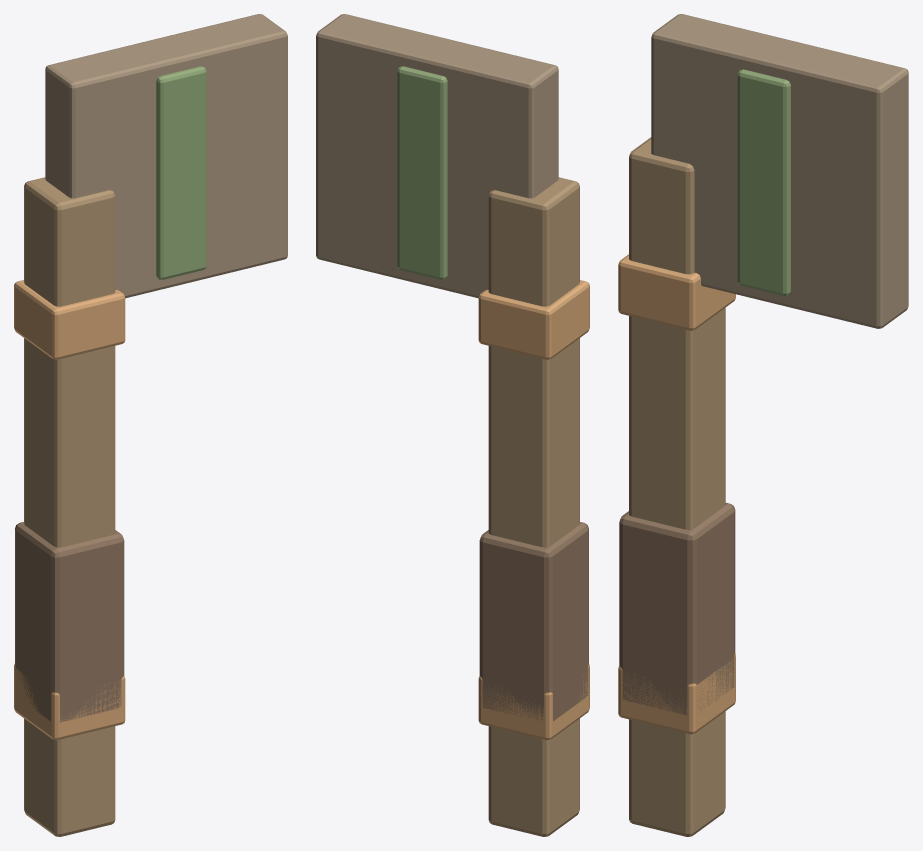
File: weapon_bogiron_axe.glb
3 renders of one model, left to right at view 1: azimuth 30°, elevation 25°; view 2: azimuth 150°, elevation 25°; view 3: azimuth 330°, elevation 25°, orthographic. The views are drawn at different scales.
Visible parts, largest first — view 1: Head, Haft, Grip_wrap, Head_moss, Band_top, Band_bot; view 2: Head, Haft, Grip_wrap, Head_moss, Band_top, Band_bot; view 3: Head, Haft, Grip_wrap, Head_moss, Band_top, Band_bot.
Boxes of the visible parts, <box> form: Head: <box>45,14,287,298</box>; Haft: <box>24,177,115,836</box>; Grip_wrap: <box>15,522,124,722</box>; Head_moss: <box>156,66,206,279</box>; Band_top: <box>14,280,125,359</box>; Band_bot: <box>14,664,125,740</box>; Head: <box>316,14,558,298</box>; Haft: <box>488,177,579,836</box>; Grip_wrap: <box>479,522,588,721</box>; Head_moss: <box>397,66,447,279</box>; Band_top: <box>478,280,589,359</box>; Band_bot: <box>478,664,589,740</box>; Head: <box>651,14,908,328</box>; Haft: <box>629,137,725,836</box>; Grip_wrap: <box>619,502,735,715</box>; Head_moss: <box>737,69,790,296</box>; Band_top: <box>618,254,735,330</box>; Band_bot: <box>618,653,735,734</box>.
Size of the model in its own units: 0.2 by 0.59 by 0.06.
